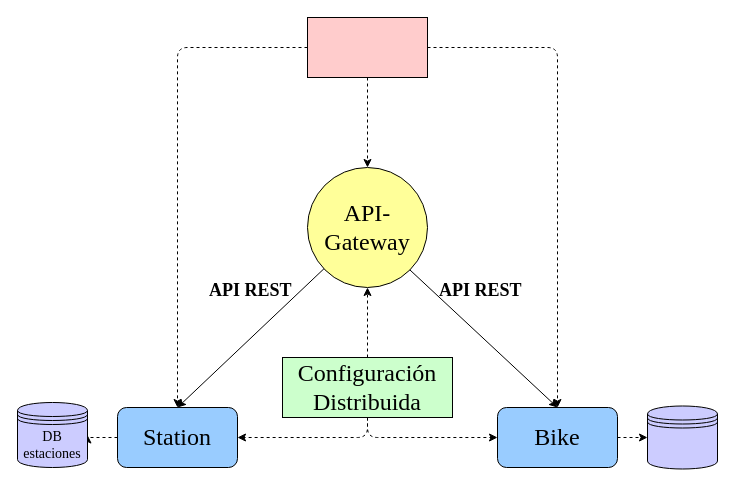
Some shapes in this 735 by 487 pixel diagram are drawn without their labels. Each missing label, with the centre of its shape:
DB Bicicletas: pixel 682 437
LOGGING: pixel 367 47
